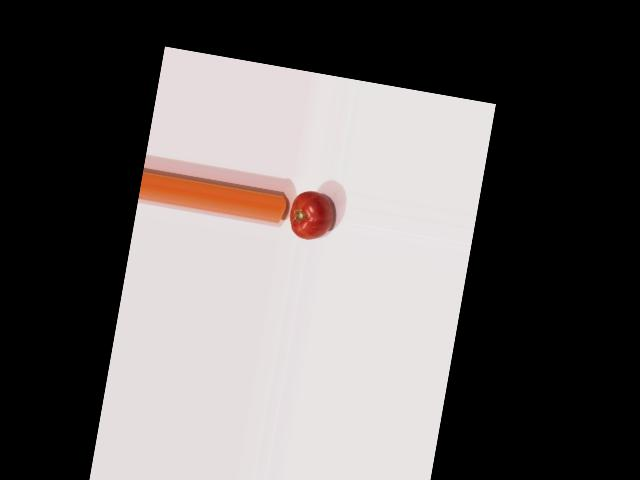tomato: (286, 189, 336, 243)
